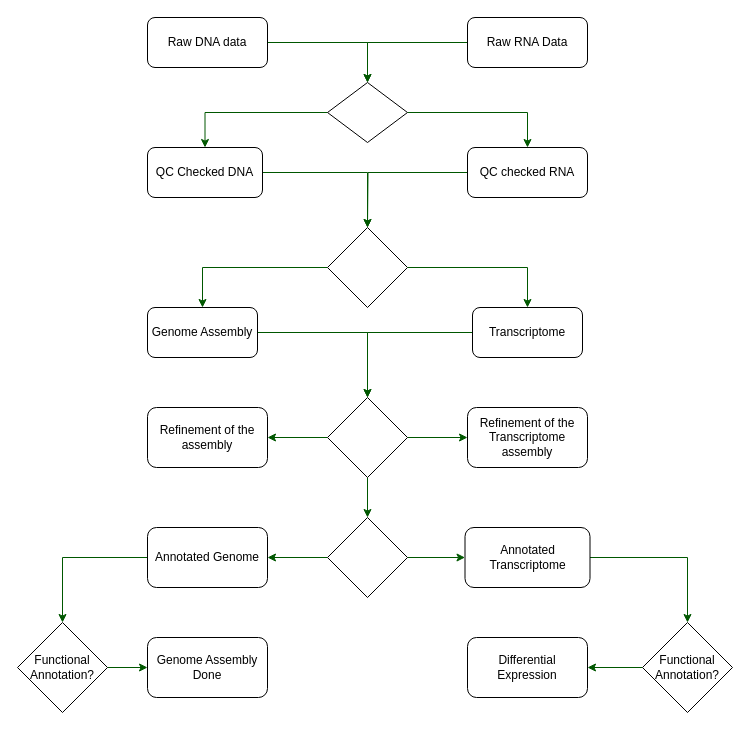
The diagram is 750 pixels wide and 730 high, and some of its shapes have lost their labels. Each missing label, with the centre of its shape:
Annotation: the point at 367,557
Evaluation: the point at 367,437
Quality Control: the point at 367,112
Trimming: the point at 367,267
